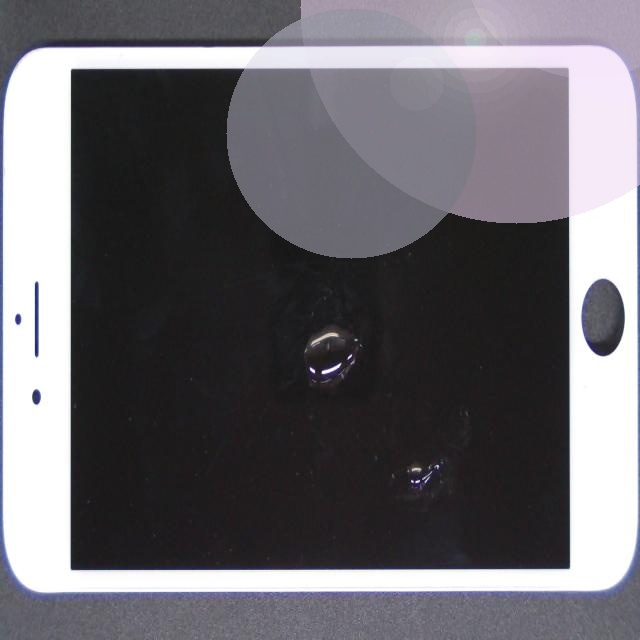oil: (237, 239, 640, 640), (182, 191, 545, 520)
